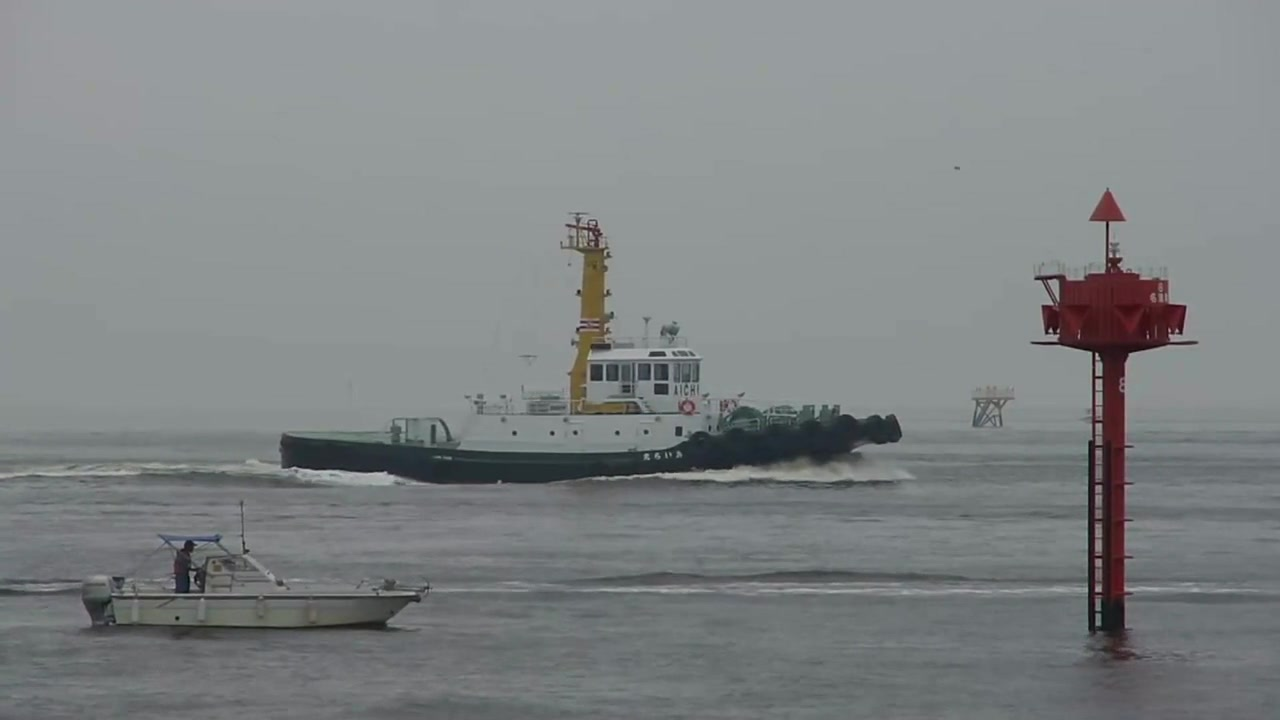boat: (284, 210, 906, 488)
